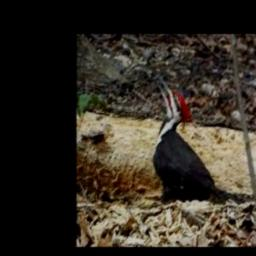Woodpecker: (152, 77, 245, 204)
